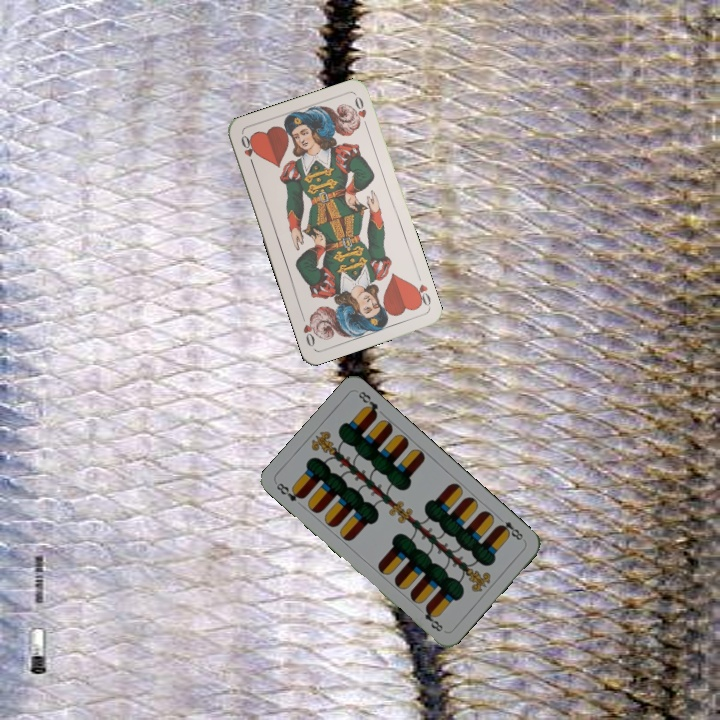E8: (494, 513, 527, 544), (272, 479, 307, 504)
HO: (237, 131, 257, 170), (409, 280, 433, 310)
